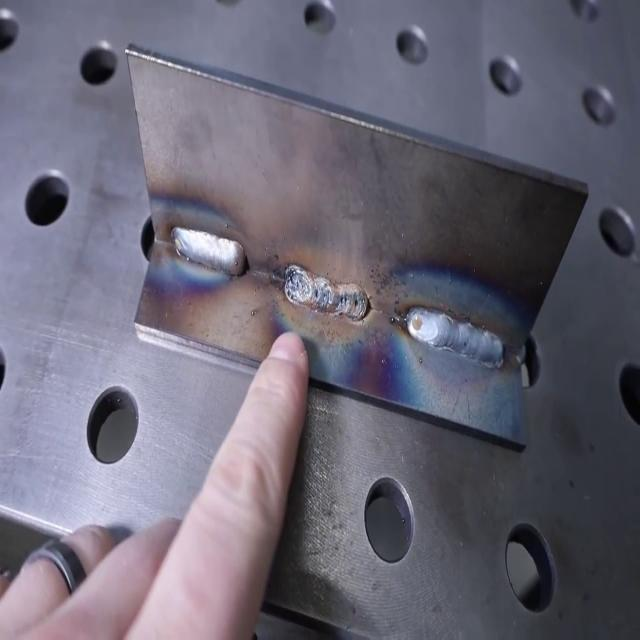Bad Welding: (282, 258, 369, 320)
Good Welding: (404, 300, 504, 372), (170, 225, 247, 278)
Porosity: (338, 292, 359, 310), (312, 284, 320, 302)
